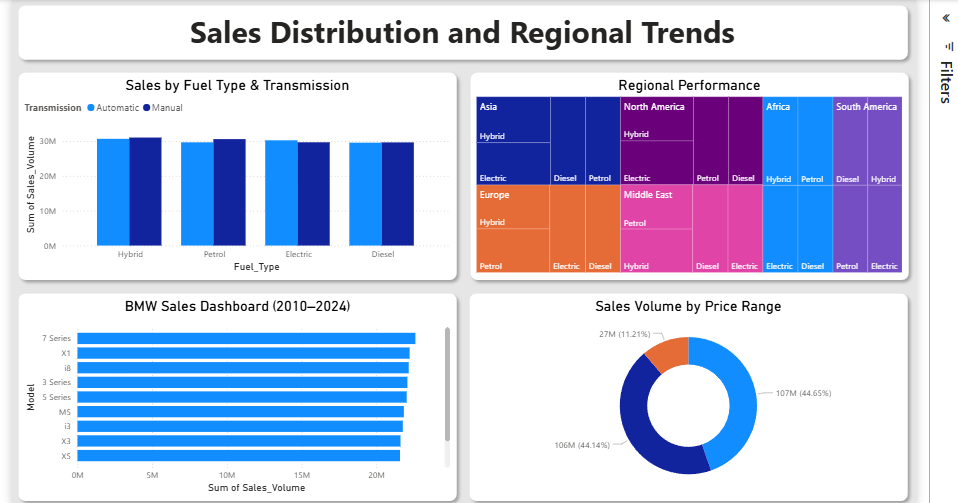

The dashboard page shown, as its layout file describes it:
{"tool":"powerbi","page":{"name":"Regional & Type Analysis","canvas":[1280,720],"ordinal":1},"visuals":[{"type":"shape","box":[0,95,639.4,312.5],"z":0},{"type":"shape","box":[0,407.5,639.4,312.5],"z":500},{"type":"shape","box":[0,0,1278.7,95],"z":750},{"type":"shape","box":[639.4,407.5,639.4,312.5],"z":875},{"type":"shape","box":[640.8,95,639.4,312.5],"z":1000},{"type":"clusteredBarChart","title":"BMW Sales Dashboard (2010–2024)","fields":{"Category":["BMW sales data (2010-2024) (1).Model"],"Y":["Sum(BMW sales data (2010-2024) (1).Sales_Volume)"]},"box":[13,423.4,613.4,282.2],"z":2000},{"type":"donutChart","title":"Sales Volume by Price Range","fields":{"Category":["BMW sales data (2010-2024) (1).Price Range"],"Y":["Sum(BMW sales data (2010-2024) (1).Sales_Volume)"]},"box":[652.3,423.4,613.4,282.2],"z":3000},{"type":"treemap","title":"Regional Performance","fields":{"Group":["BMW sales data (2010-2024) (1).Region"],"Values":["Sum(BMW sales data (2010-2024) (1).Sales_Volume)"],"Details":["BMW sales data (2010-2024) (1).Fuel_Type"]},"box":[653.8,110.9,613.4,282.2],"z":4000},{"type":"clusteredColumnChart","title":"Sales by Fuel Type & Transmission","fields":{"Category":["BMW sales data (2010-2024) (1).Fuel_Type"],"Y":["Sum(BMW sales data (2010-2024) (1).Sales_Volume)"],"Series":["BMW sales data (2010-2024) (1).Transmission"]},"box":[13,110.9,613.4,282.2],"z":5000},{"type":"textbox","box":[17.3,11.5,1242.7,72],"z":6000}]}

Visuals, with their boxes on the page's 1280x720 design canvas (x1, y1, x2, y2). These are canvas units, not pixel positions in the 958x503 screenshot, which may show the page scaled, cropped or inside an application window:
shape: pyautogui.locateOnScreen(0, 95, 639, 408)
shape: pyautogui.locateOnScreen(0, 408, 639, 720)
shape: pyautogui.locateOnScreen(0, 0, 1279, 95)
shape: pyautogui.locateOnScreen(639, 408, 1279, 720)
shape: pyautogui.locateOnScreen(641, 95, 1280, 408)
"BMW Sales Dashboard (2010–2024)" clusteredBarChart: pyautogui.locateOnScreen(13, 423, 626, 706)
"Sales Volume by Price Range" donutChart: pyautogui.locateOnScreen(652, 423, 1266, 706)
"Regional Performance" treemap: pyautogui.locateOnScreen(654, 111, 1267, 393)
"Sales by Fuel Type & Transmission" clusteredColumnChart: pyautogui.locateOnScreen(13, 111, 626, 393)
textbox: pyautogui.locateOnScreen(17, 12, 1260, 84)
